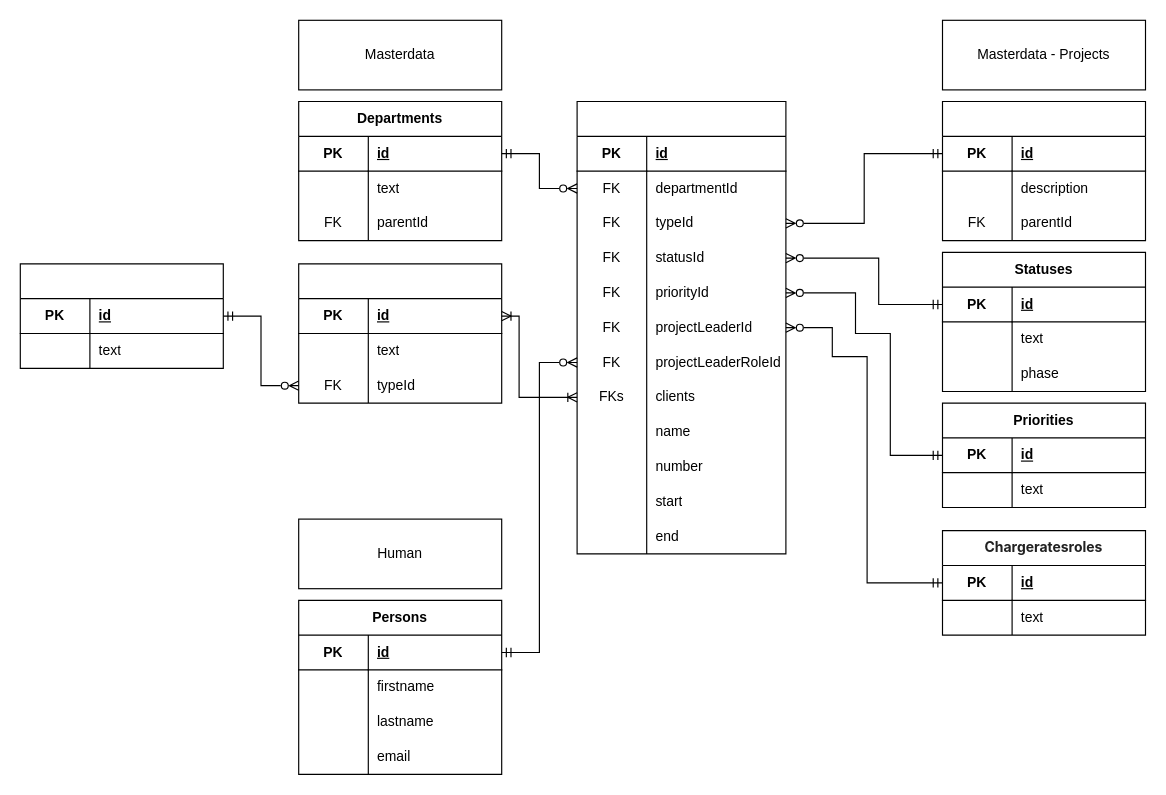
The diagram is 1166 pixels wide and 795 high, and some of its shapes have lost their labels. Each missing label, with the box of its shape:
Customers: (298, 263, 502, 403)
Customers - Types: (19, 263, 223, 368)
Projects: (576, 100, 786, 554)
Types: (941, 100, 1146, 241)
